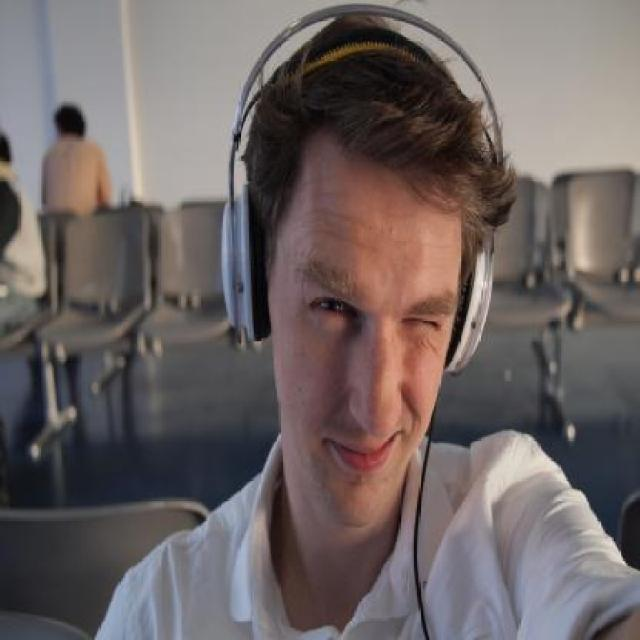earphone: (225, 3, 507, 367)
